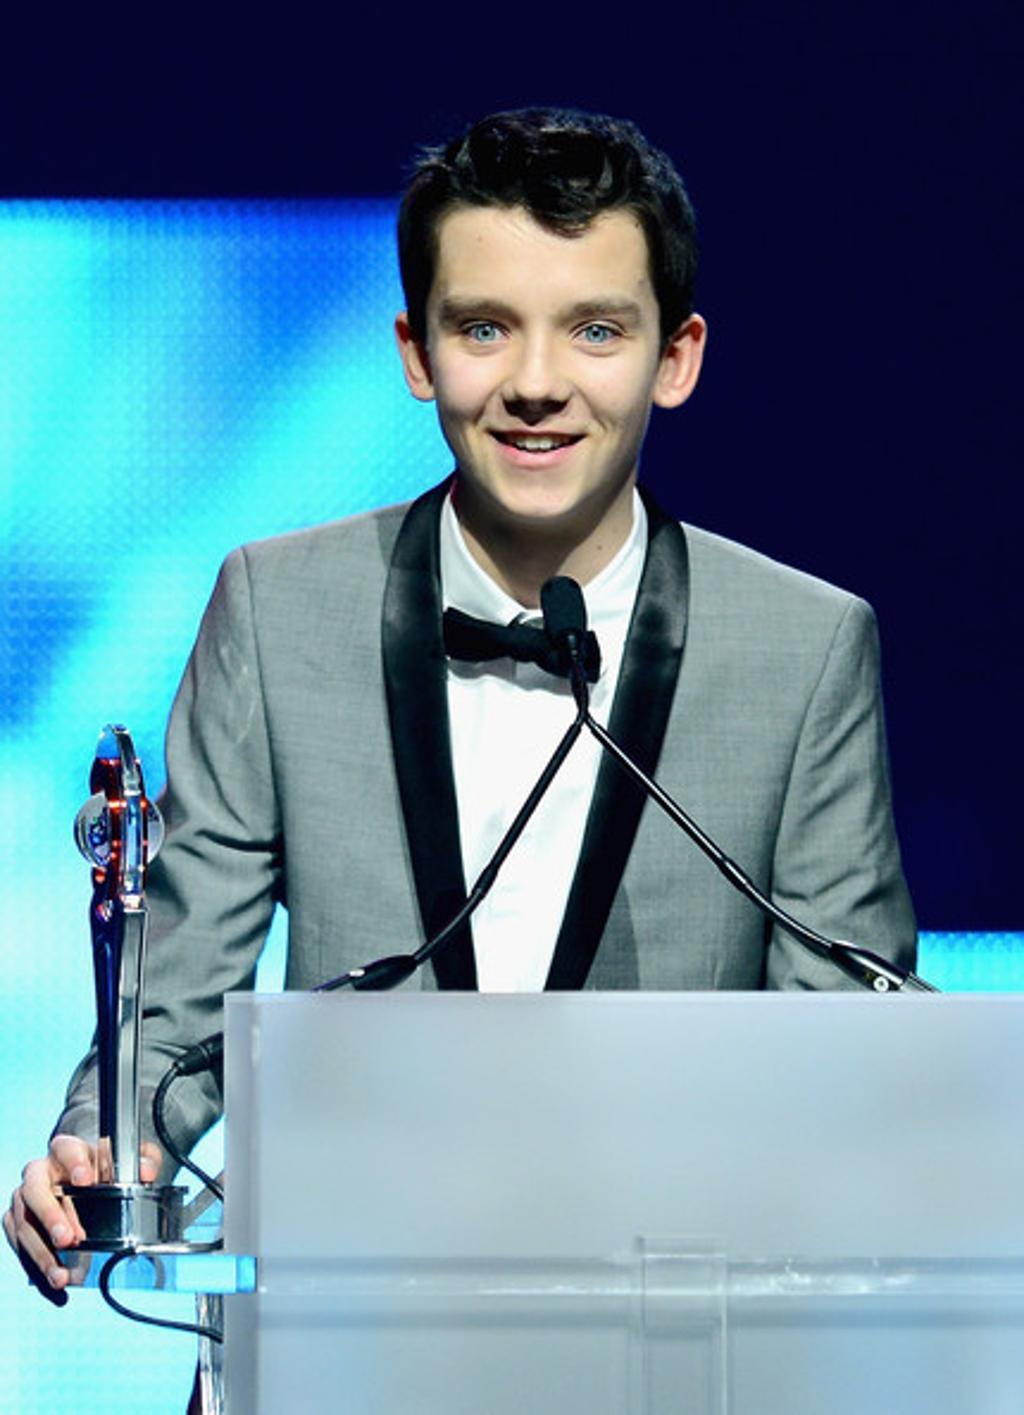face: (428, 182, 660, 521)
